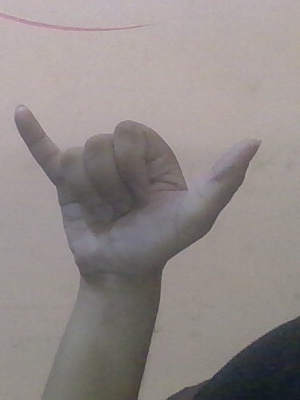Y: (8, 90, 283, 296)
